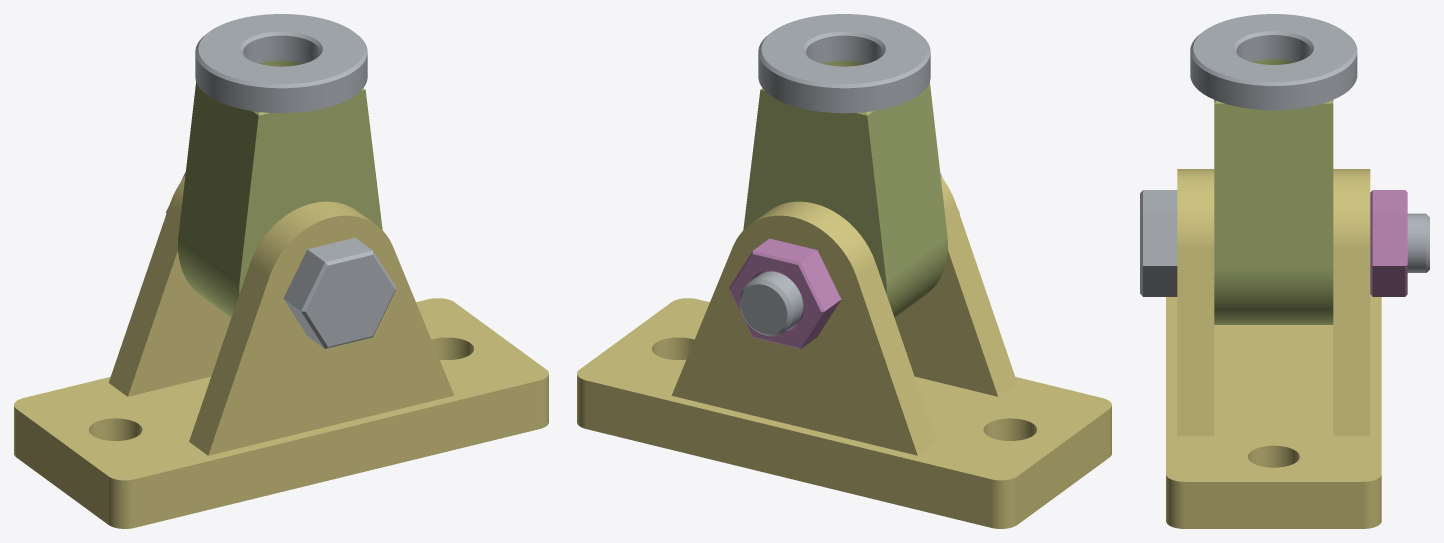
The model's file is step_20.glb.
3 views of the same model, side by side, from view 1: azimuth 30°, elevation 25°; view 2: azimuth 150°, elevation 25°; view 3: azimuth 270°, elevation 25° (orthographic). The views are drawn at different scales.
Parts seen in each view (by area): view 1: part__base, part__swivel, part__lock nut M20 x 2.5, part__bolt M16 x 2.0 x 68; view 2: part__base, part__swivel, part__lock nut M20 x 2.5, part__standard nut M16 x 2.0, part__bolt M16 x 2.0 x 68; view 3: part__base, part__swivel, part__lock nut M20 x 2.5, part__bolt M16 x 2.0 x 68, part__standard nut M16 x 2.0.
Part boxes in pixels (box(x1,y1,x2,y2)): part__base: box(14, 176, 548, 528); part__swivel: box(178, 60, 382, 317); part__lock nut M20 x 2.5: box(195, 14, 367, 113); part__bolt M16 x 2.0 x 68: box(283, 237, 396, 348); part__base: box(577, 176, 1111, 528); part__swivel: box(743, 60, 947, 317); part__lock nut M20 x 2.5: box(758, 14, 930, 113); part__standard nut M16 x 2.0: box(729, 238, 841, 349); part__bolt M16 x 2.0 x 68: box(739, 173, 959, 336); part__base: box(1166, 169, 1381, 528); part__swivel: box(1214, 59, 1333, 324); part__lock nut M20 x 2.5: box(1190, 14, 1357, 110); part__bolt M16 x 2.0 x 68: box(1140, 190, 1429, 296); part__standard nut M16 x 2.0: box(1370, 190, 1407, 296).
Bounding box in the file's own units: 132 × 112 × 78.
